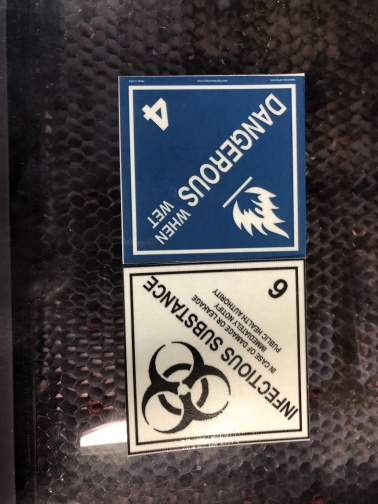DangerousWhenWet: (117, 74, 307, 262)
InfectiousSubstance: (121, 259, 311, 456)
